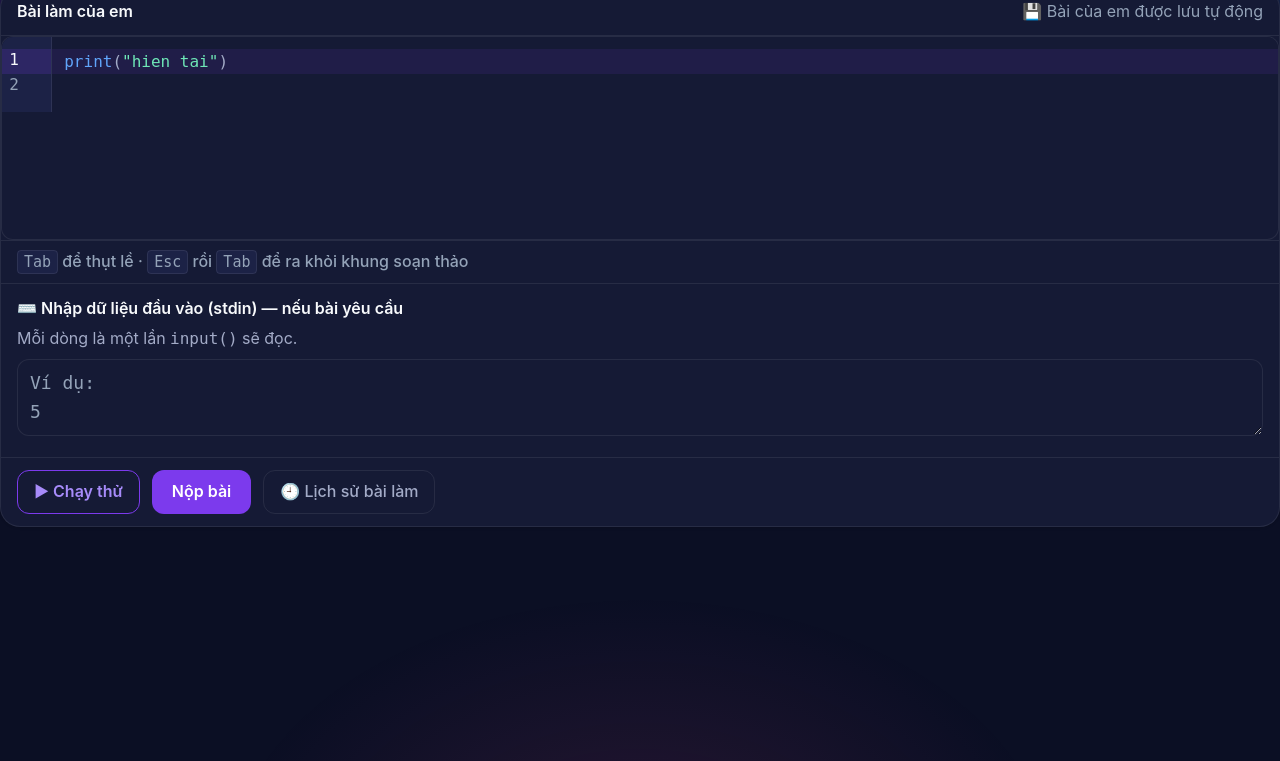
Test: Khu làm bài › quay lại bản cũ và nói rõ bản đang viết vẫn được giữ
Click the button "🕘 Lịch sử bài làm".
click(349, 492)  # box left=263, top=470, right=436, bottom=514
(page scrolled)
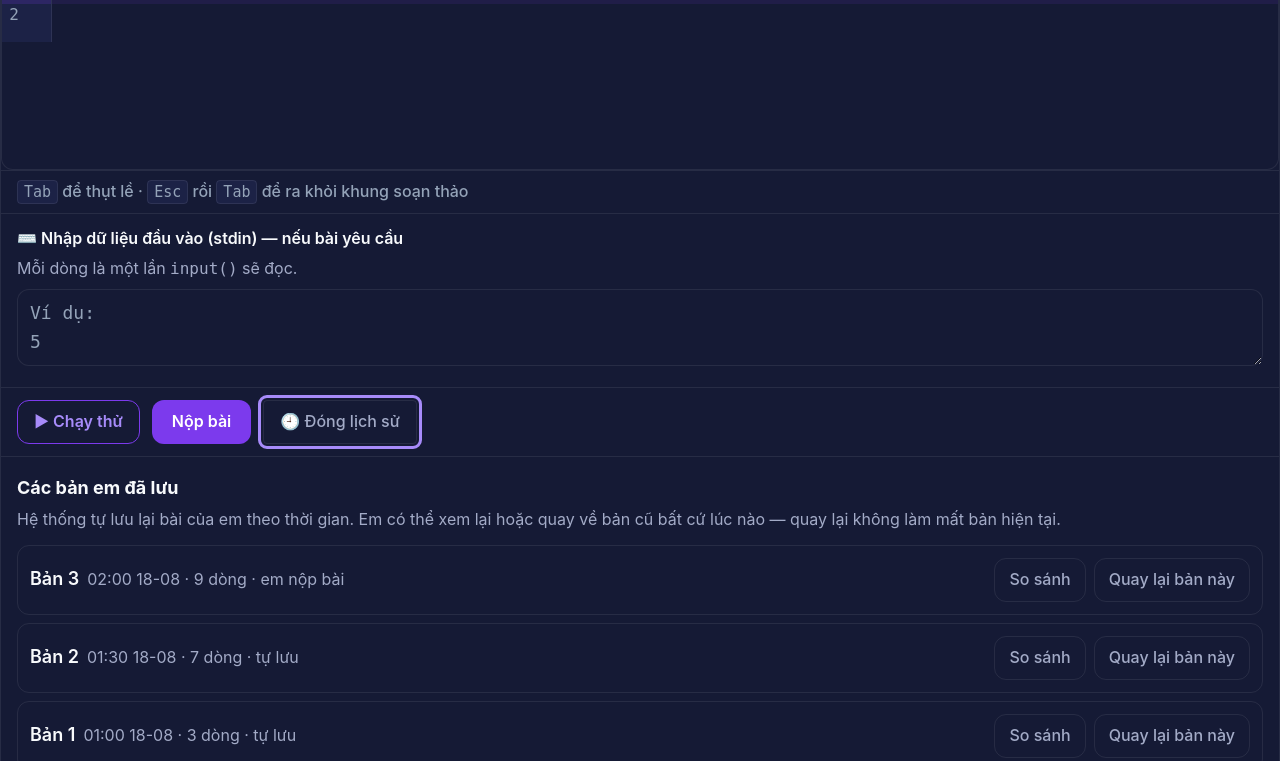
Click the button "Quay lại bản này" in the row of "01:00 18-08".
click(1172, 736)  # box left=1094, top=714, right=1250, bottom=758
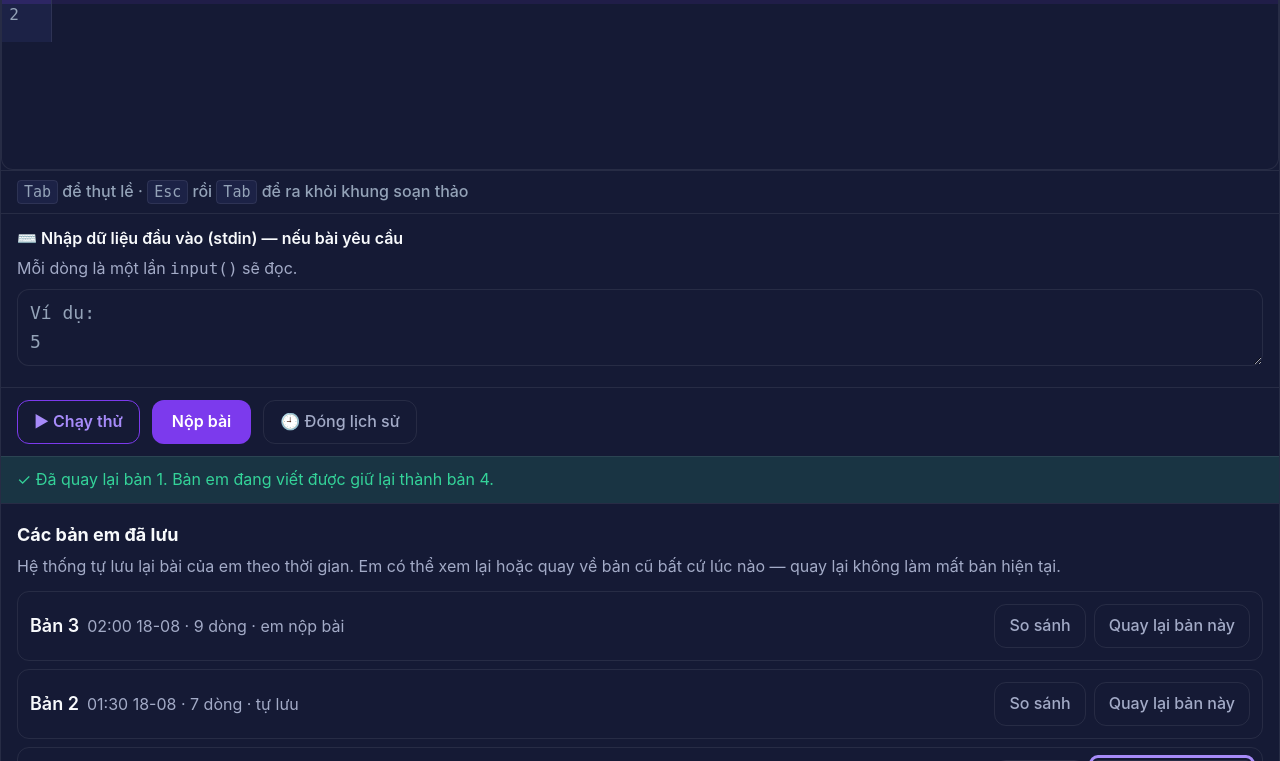
Now the text "✓ Đã quay lại bản 1. Bản em đang viết được giữ lại thành bản 4." is shown, box left=1, top=456, right=1279, bottom=503
